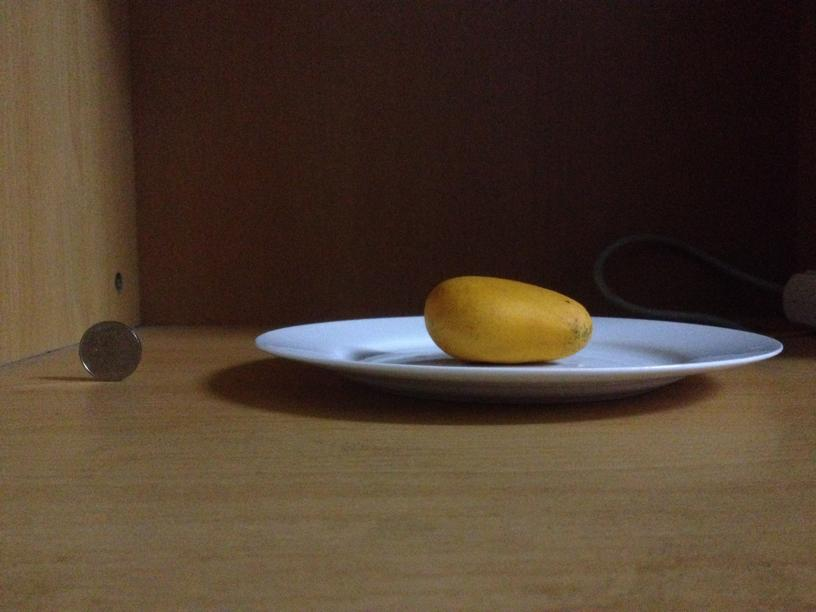coin: (75, 321, 140, 380)
mango: (421, 273, 590, 362)
